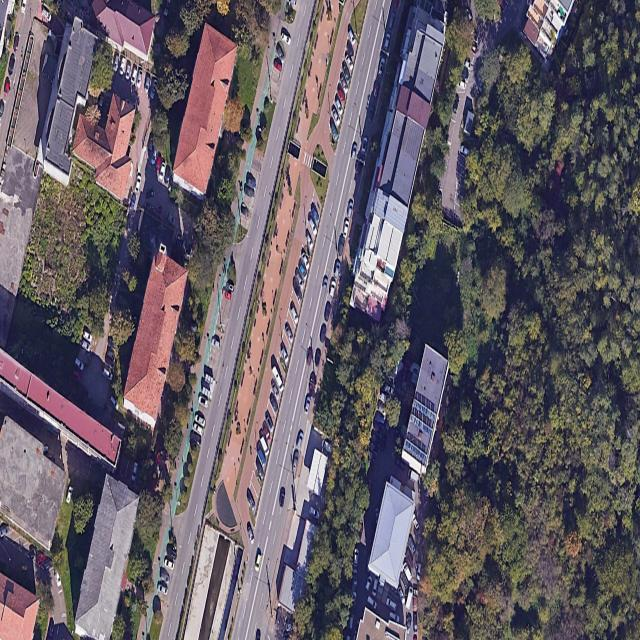building: (220, 0, 390, 639), (160, 0, 315, 639), (318, 6, 445, 309), (351, 345, 447, 639), (103, 150, 193, 324), (0, 348, 121, 474), (49, 479, 139, 639), (147, 393, 202, 639), (73, 327, 147, 486), (125, 247, 188, 420), (173, 22, 237, 191), (42, 17, 96, 184), (0, 416, 67, 549), (73, 92, 148, 203), (269, 430, 307, 639), (0, 148, 39, 347), (0, 0, 46, 168), (195, 482, 243, 639), (0, 507, 51, 639), (439, 62, 476, 227), (13, 20, 58, 154), (108, 81, 151, 191), (89, 0, 155, 62), (301, 426, 331, 526), (0, 571, 39, 639), (537, 0, 575, 68), (221, 442, 241, 510), (111, 62, 139, 108), (98, 170, 120, 198), (105, 36, 111, 131), (191, 410, 205, 443), (9, 0, 15, 14)
grass: (106, 0, 276, 639), (5, 167, 126, 393), (49, 485, 97, 620)
tree: (392, 0, 640, 639), (428, 0, 529, 161), (314, 316, 409, 460), (296, 467, 342, 639), (315, 362, 339, 474)
